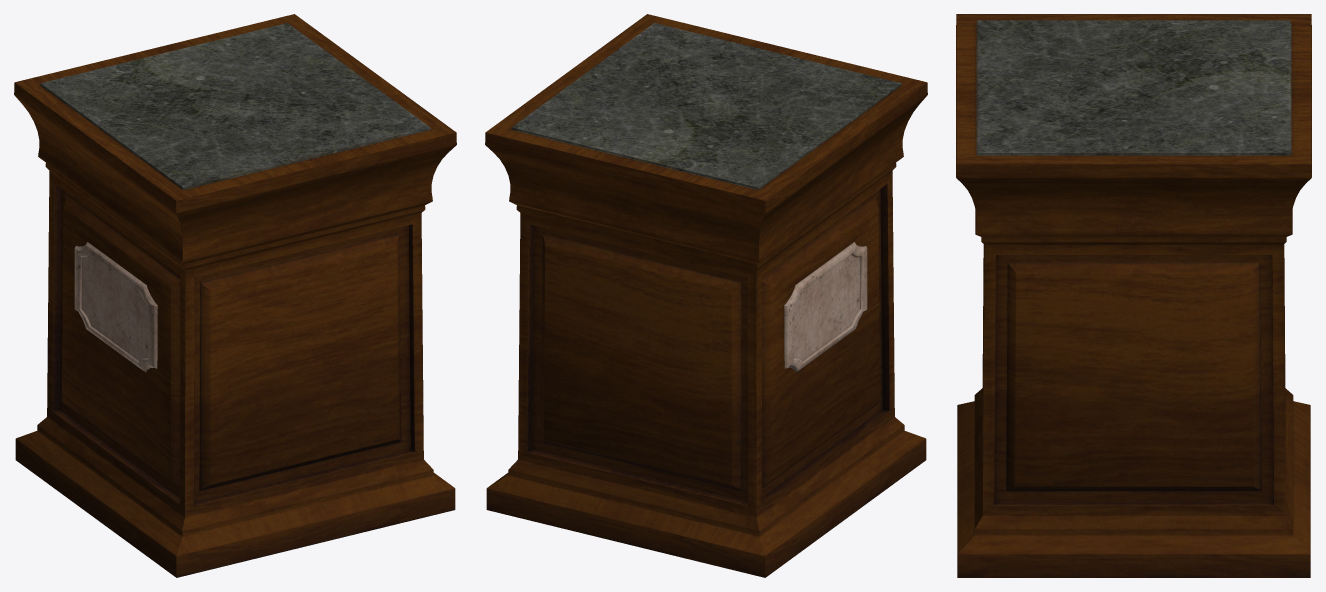
Rendered from pedestal-museo.gltf.
3 views of the same model, side by side, from view 1: azimuth 30°, elevation 25°; view 2: azimuth 150°, elevation 25°; view 3: azimuth 270°, elevation 25° (orthographic). The views are drawn at different scales.
Parts seen in each view (by area): view 1: Plinto · cuerpo, Plinto · tapa, Plinto · placa; view 2: Plinto · cuerpo, Plinto · tapa, Plinto · placa; view 3: Plinto · cuerpo, Plinto · tapa.
Boxes of the visible parts, <box> form: Plinto · cuerpo: <box>14,14,456,577</box>; Plinto · tapa: <box>40,23,430,189</box>; Plinto · placa: <box>74,242,157,372</box>; Plinto · cuerpo: <box>485,14,927,577</box>; Plinto · tapa: <box>511,23,901,189</box>; Plinto · placa: <box>784,242,867,372</box>; Plinto · cuerpo: <box>956,14,1311,577</box>; Plinto · tapa: <box>977,20,1290,155</box>.
Size of the model in its own units: 1.45 by 1.87 by 1.45.
Materials: 1 (1 with a texture image).
